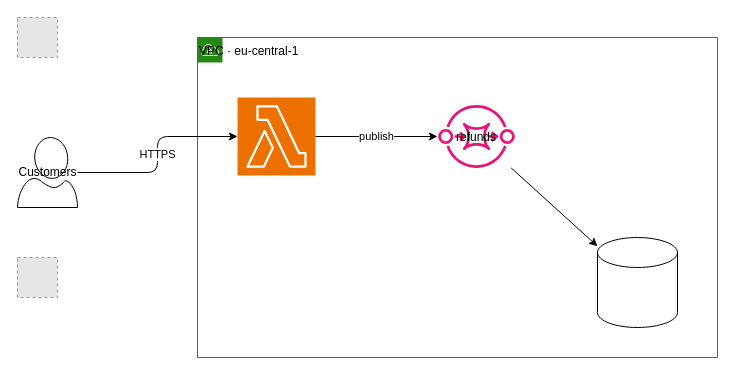
This 735x375 diagram has some shape labels left out. Grey dashed boxes stand in for pictures. Each missing label, with the centre of its shape:
"fraud-check" belongs at [276,136].
"orders-db" belongs at [637,282].
